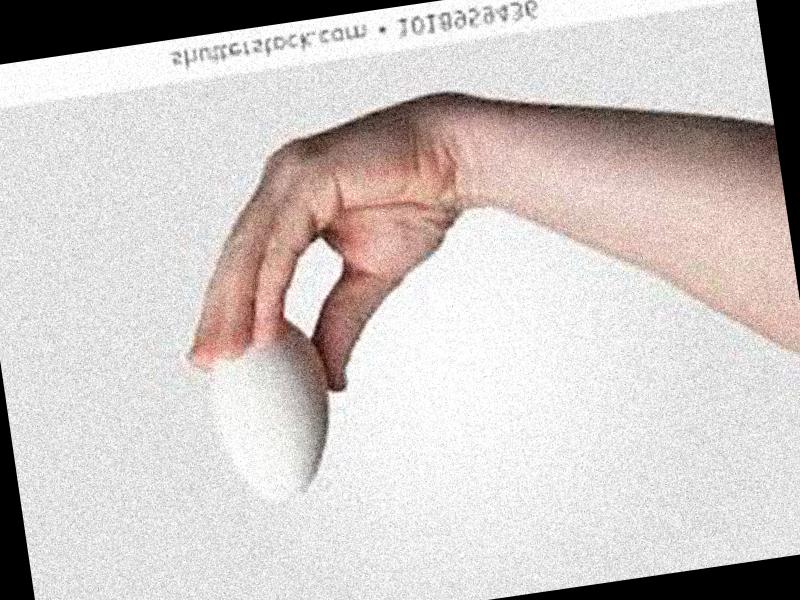Eggs: (197, 311, 343, 513)
